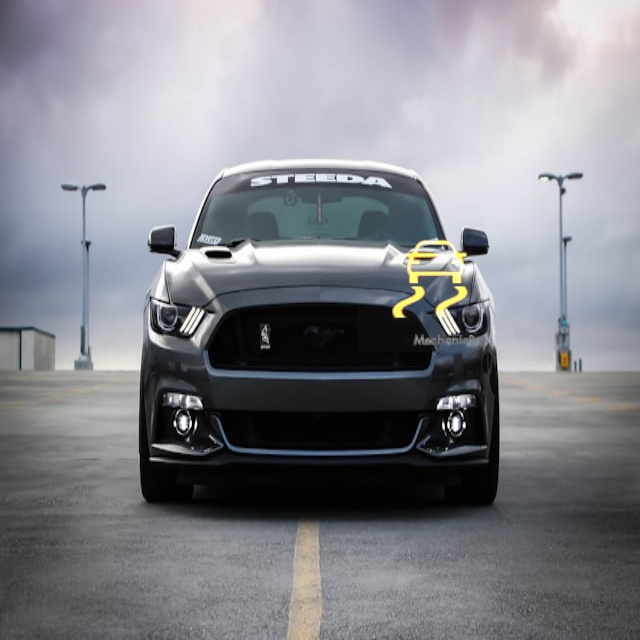symbol: (358, 209, 501, 352)
